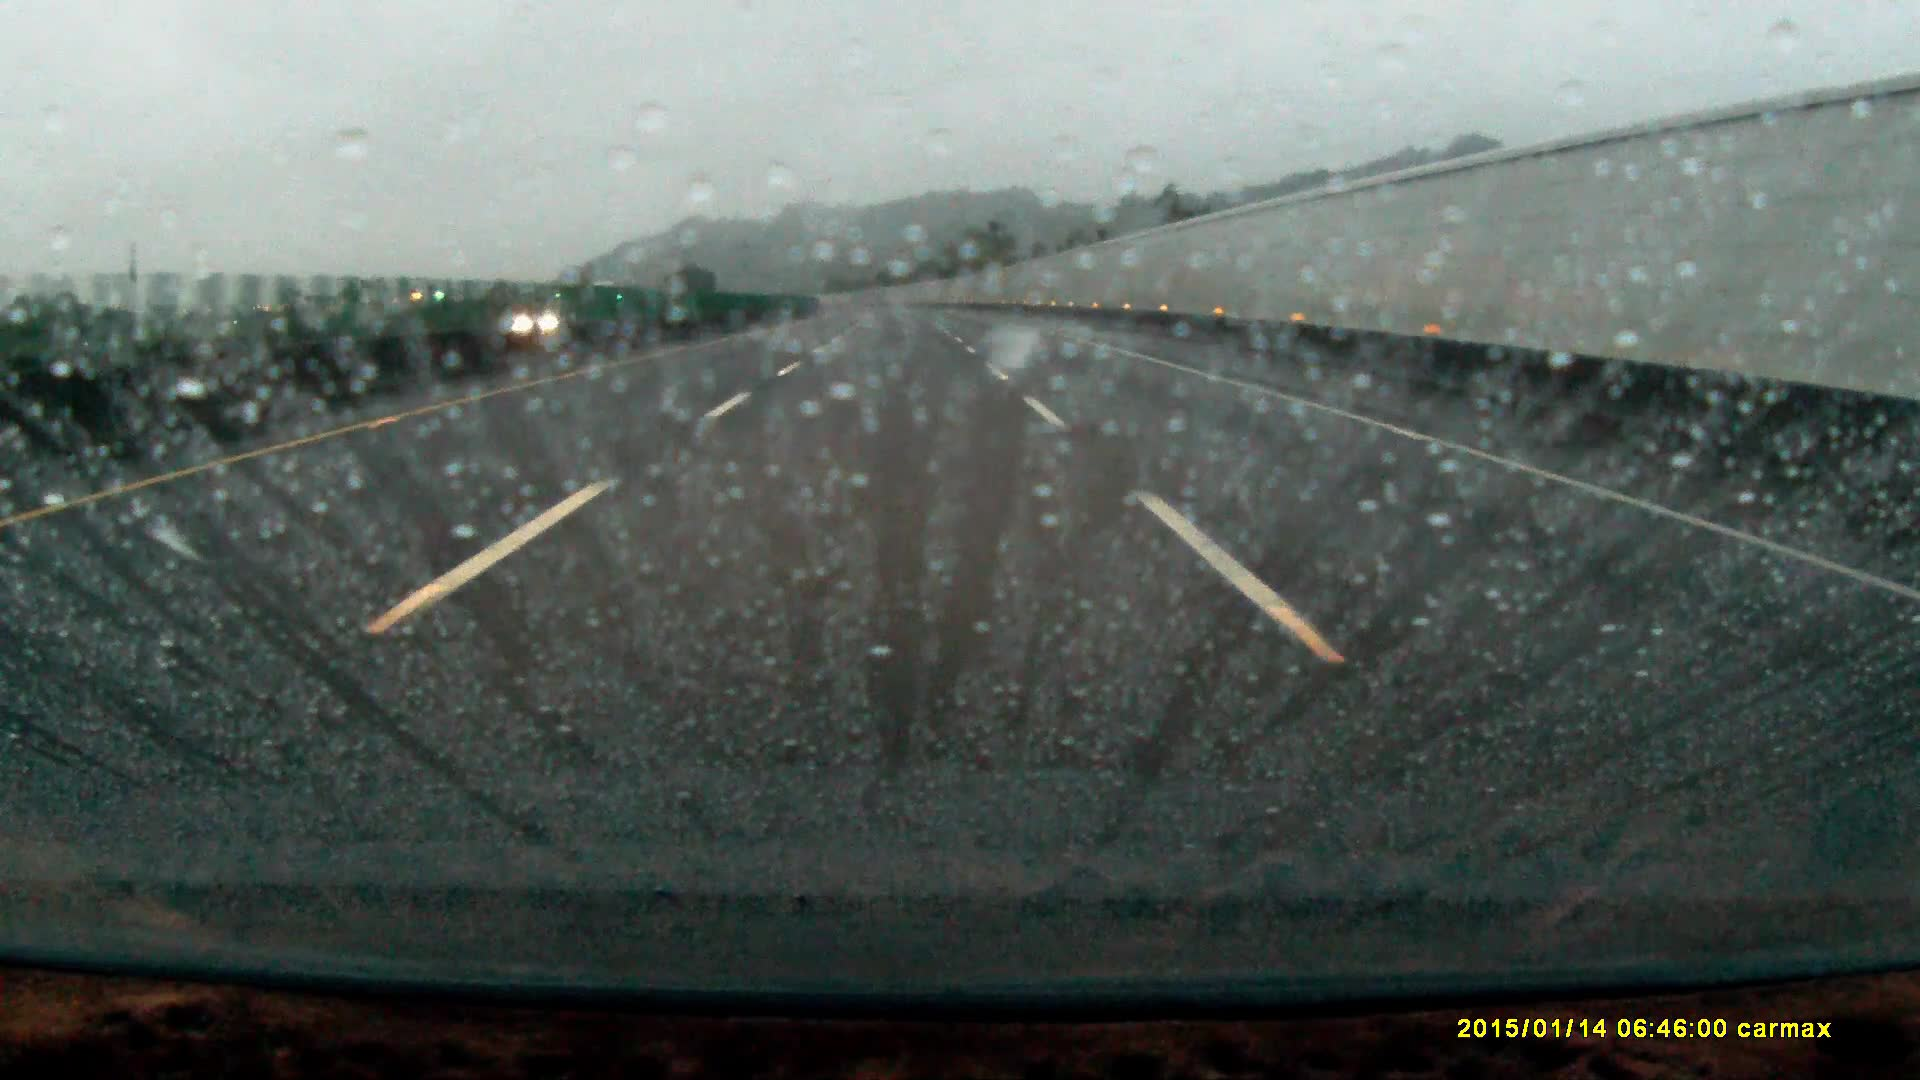vehicle: (512, 297, 574, 335)
